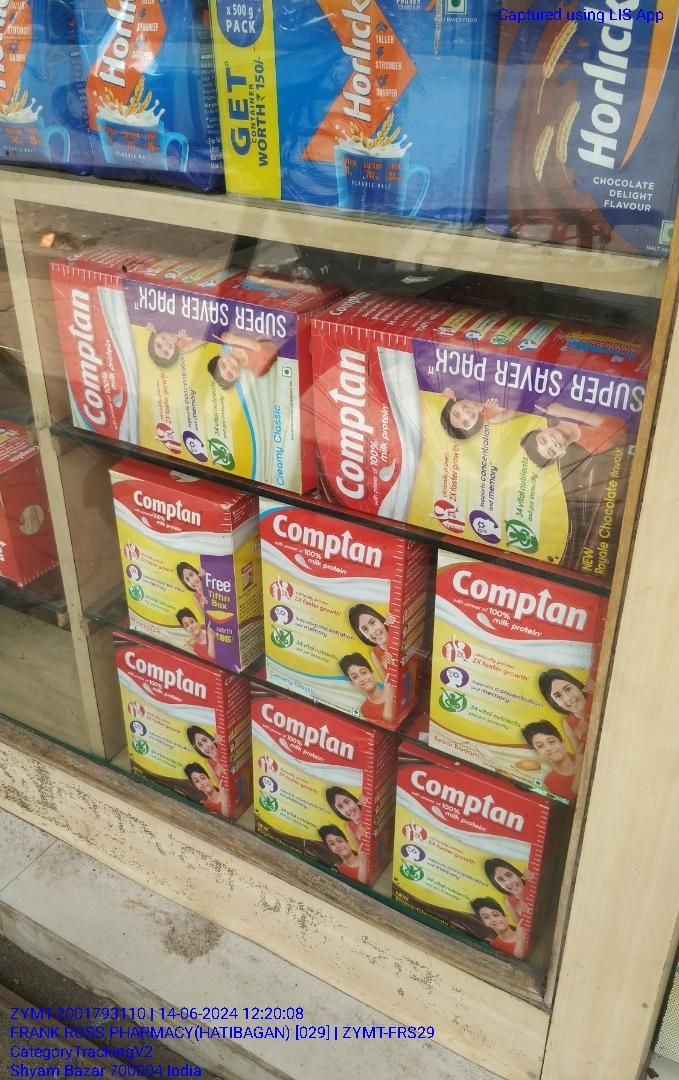COMPLAN_CHOCOLATE_200_GMS_PACK: (392, 752, 536, 957), (248, 688, 371, 884), (116, 636, 230, 818)
COMPLAN_CREAMY_CLASSIC_500_G_PACK: (257, 499, 395, 720)
COMPLAN_KESAR_BADAM_500_GMS_PACK: (430, 551, 579, 795), (115, 472, 239, 664)
